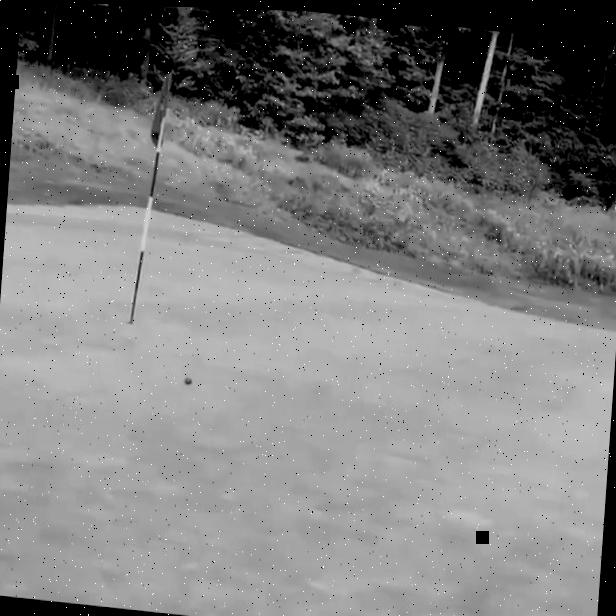GolfBall: (184, 375, 192, 383)
